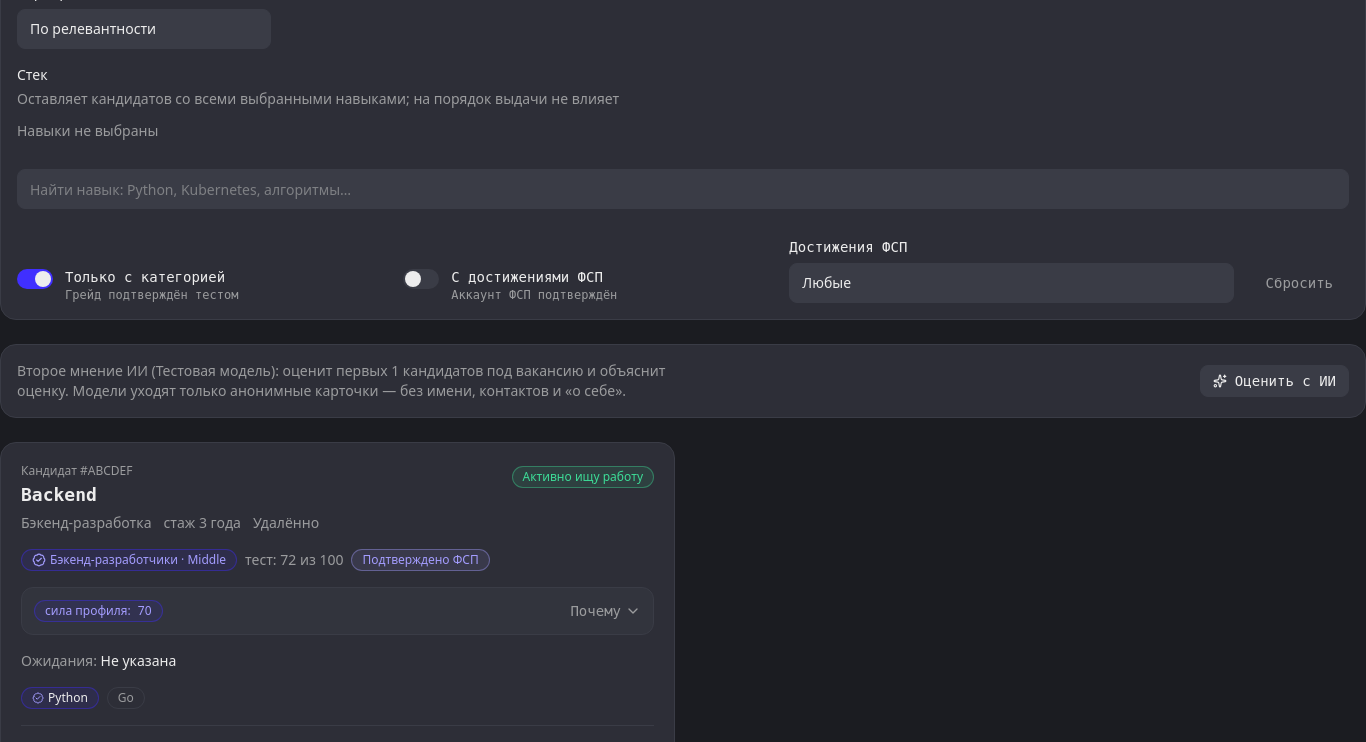
Test: CatalogPage › adds a second opinion of the language model to the top candidates
The image size is (1366, 742).
(page scrolled)
What coordinates should you click on to do the following:
click the button "Оценить с ИИ"
I would click on:
 (1274, 381)
Its box is [1200,365,1349,397].
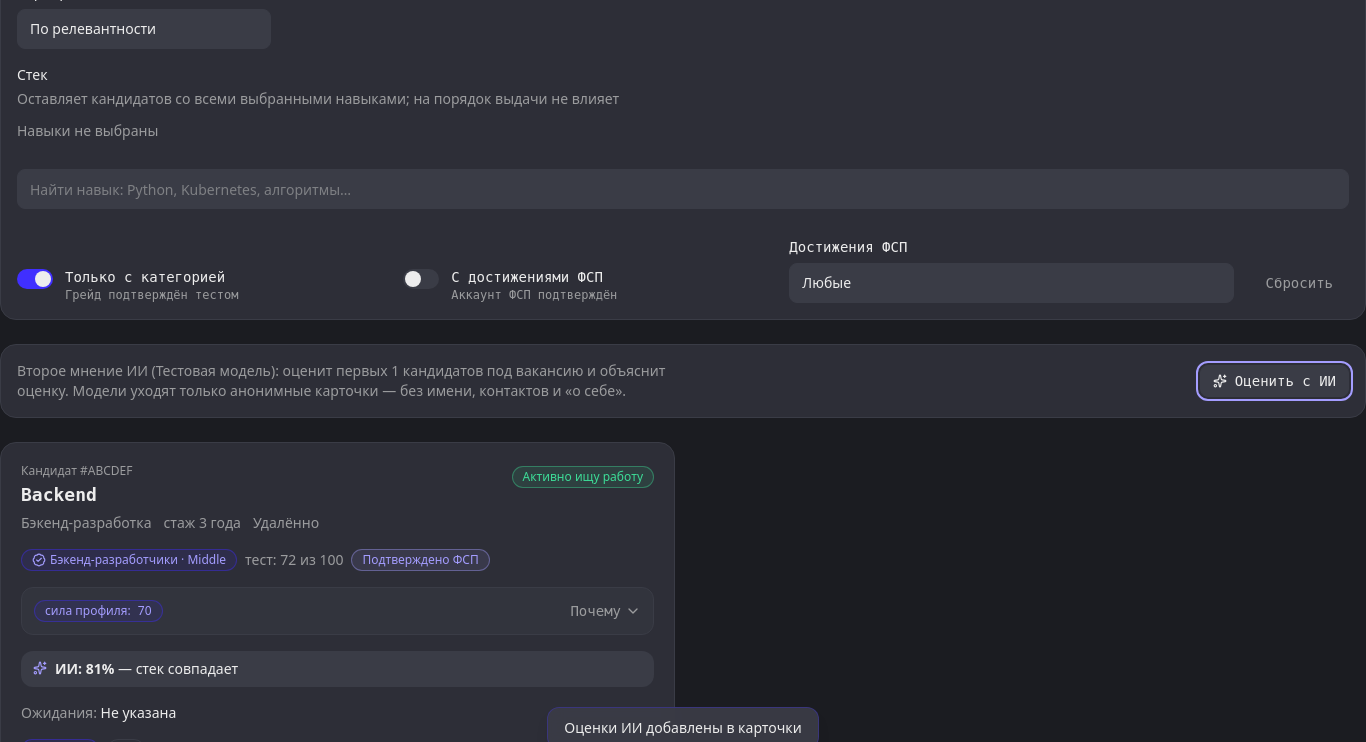
Expected: the text "ИИ: 81%" is shown, [55,659,114,678]
